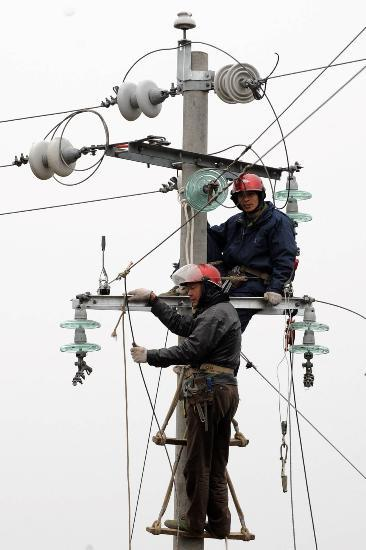boots: (163, 518, 203, 535), (203, 524, 229, 539)
gloves: (122, 287, 168, 308), (129, 346, 162, 368), (262, 287, 288, 305)
hard-hat: (171, 263, 221, 286), (231, 172, 266, 194)
person: (125, 262, 242, 539), (163, 172, 299, 333)
ppe-suit: (144, 288, 243, 537), (184, 197, 289, 322)
